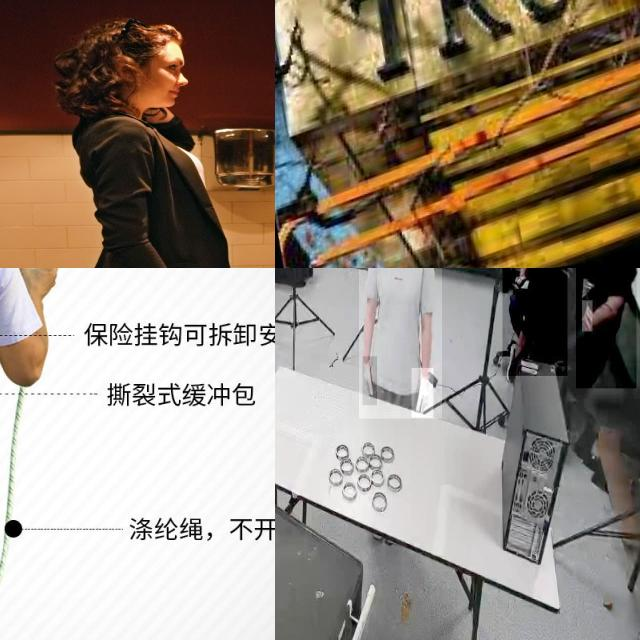face_mask: (412, 368, 434, 418), (362, 356, 378, 406)
hand_noglove: (582, 300, 593, 332)
person: (359, 268, 442, 419), (576, 268, 637, 389), (502, 268, 567, 377)
